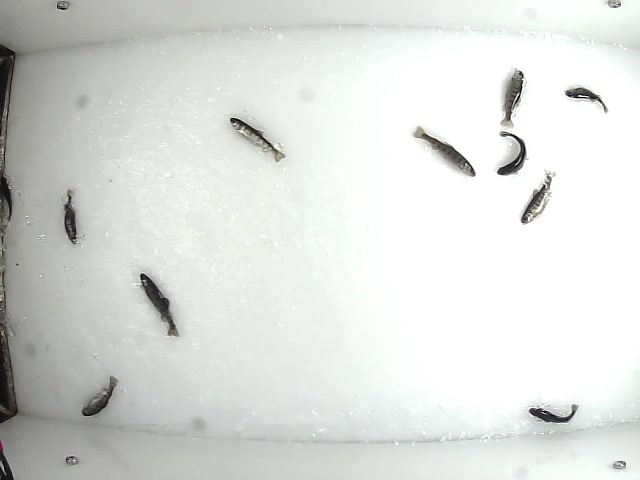fish: (410, 124, 478, 178), (136, 272, 180, 339), (228, 115, 286, 165), (517, 166, 558, 227), (493, 65, 524, 131), (78, 372, 118, 418), (495, 127, 527, 178), (57, 187, 81, 246), (525, 401, 583, 425), (563, 86, 610, 113)
